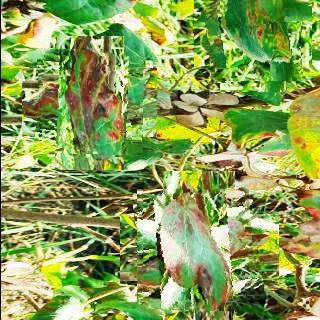blight: (35, 49, 142, 156), (205, 0, 300, 81)
leaf spot: (136, 189, 261, 312)
